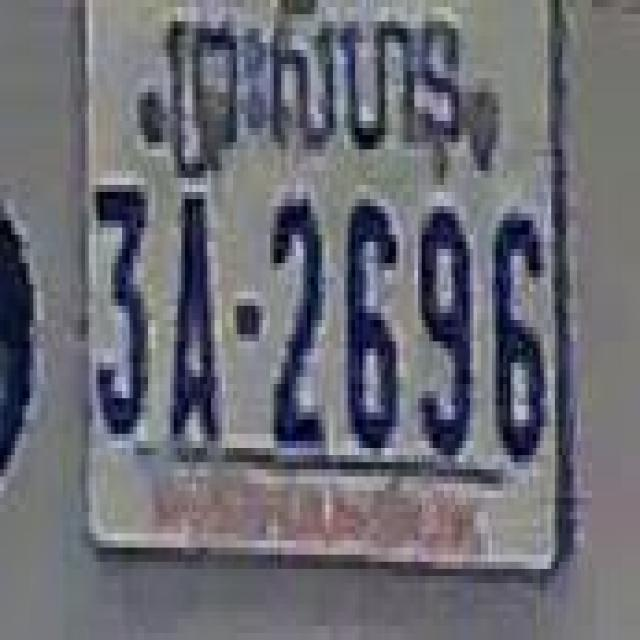Preah_Sihanouk: (163, 0, 459, 188)
